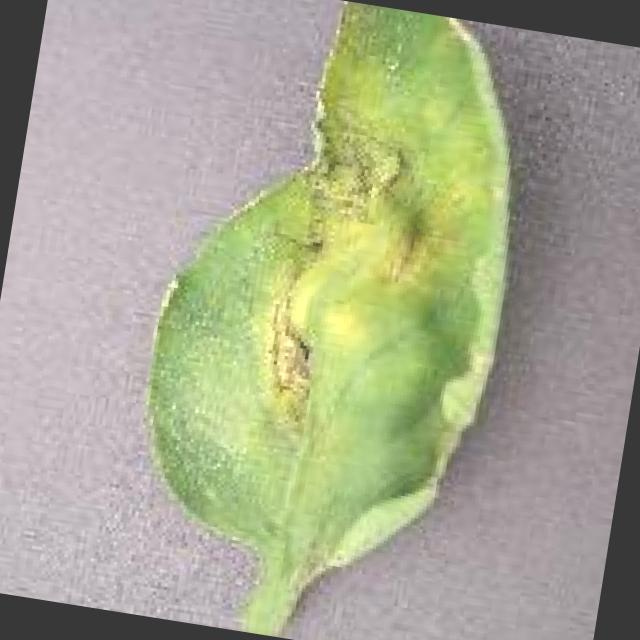leaf blight: (153, 0, 514, 638)
